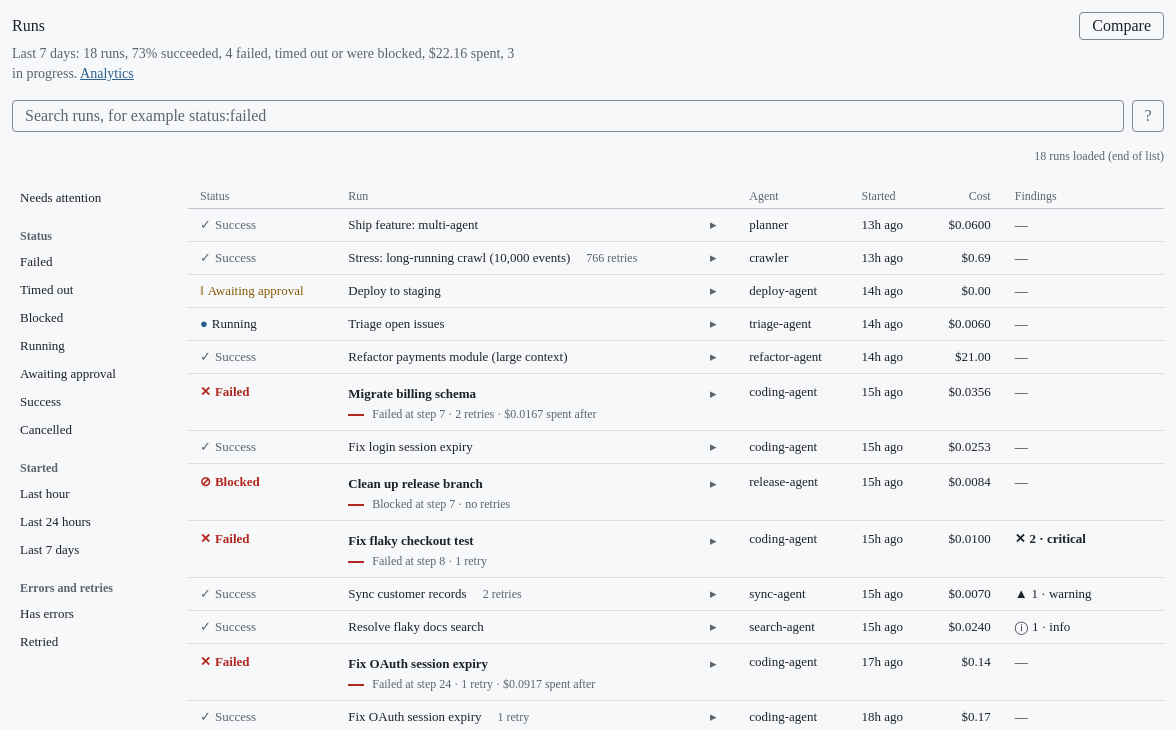
Test case: Needs attention › turning a Status facet on turns Needs attention off
What coordinates should you click on to do the following:
click the button "Needs attention"
I would click on:
 (92, 198)
Its box is [12, 184, 172, 212].
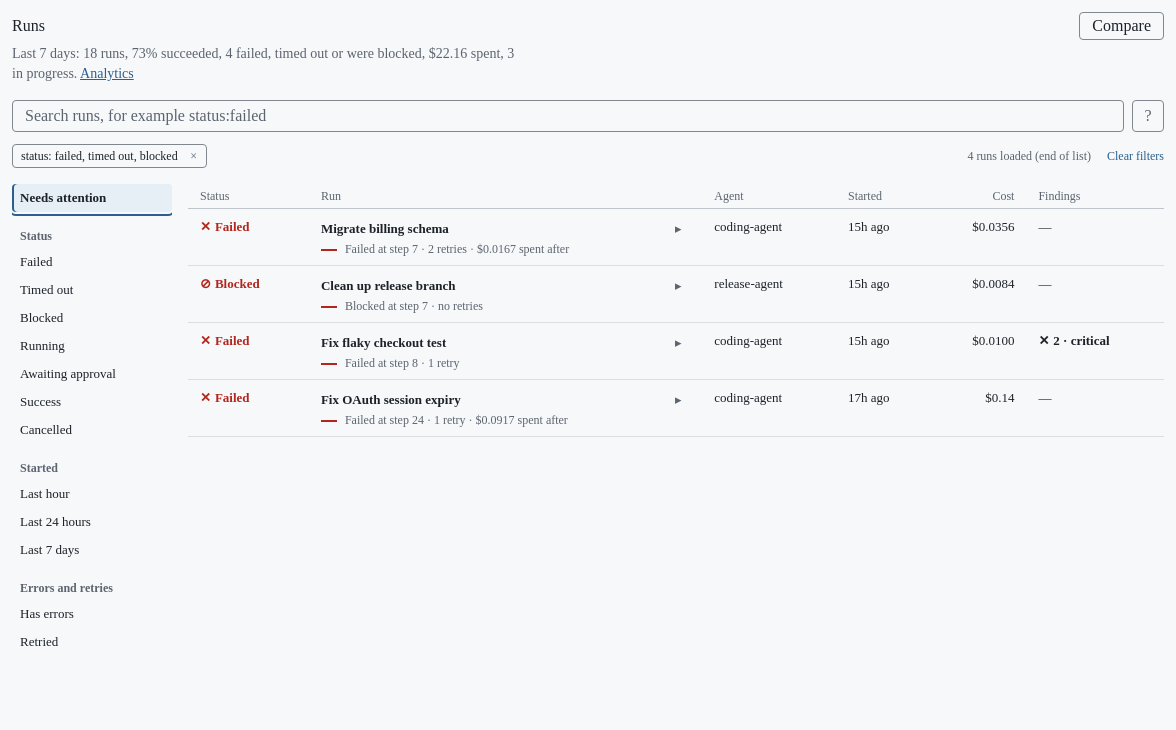
Expected: the button "Needs attention" is pressed, [12, 184, 172, 212]
What coordinates should you click on to do the following:
click the button "Success"
I would click on:
 (92, 402)
Its box is [12, 388, 172, 416].
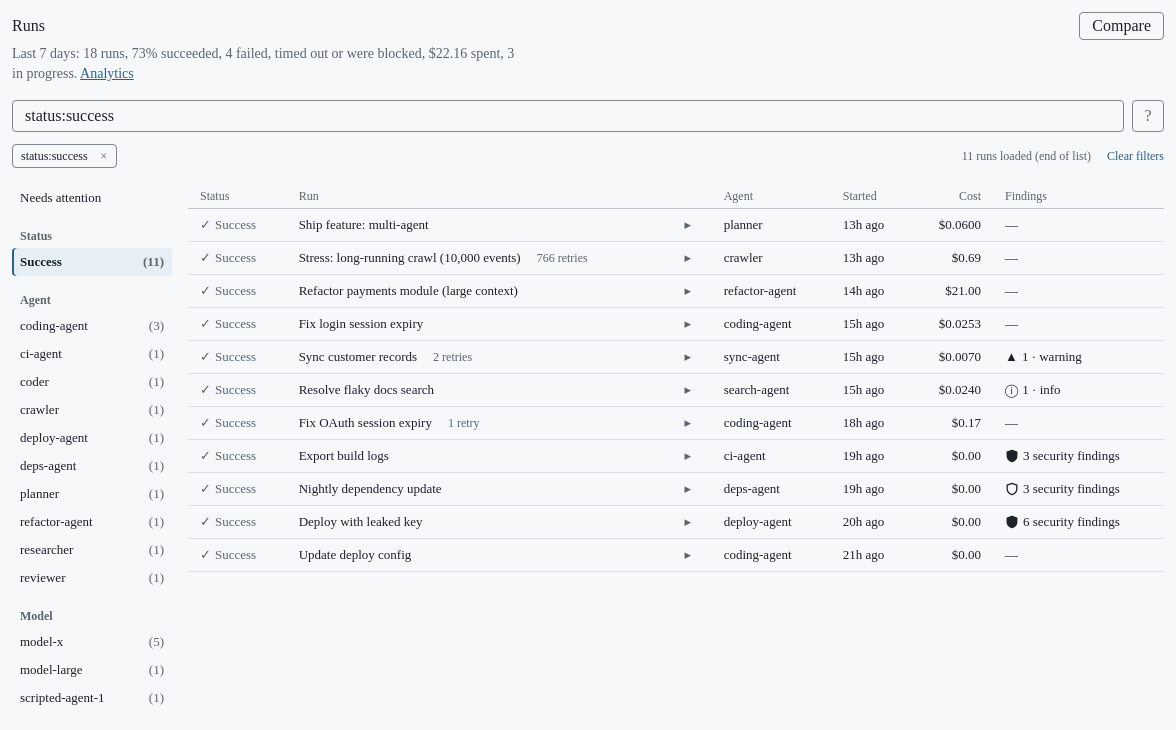
Expected: the search field named "Search runs" holds "status:success", [12, 100, 1124, 132]
